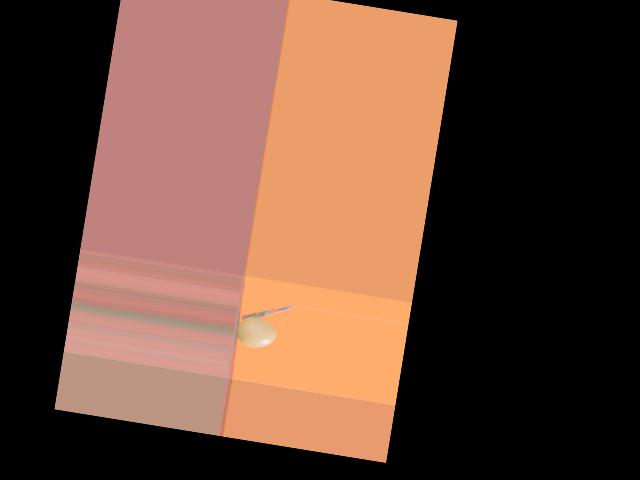egg: (235, 314, 277, 350)
